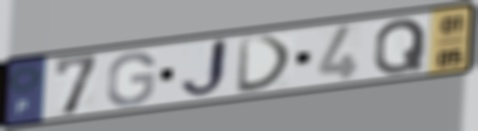4: (315, 21, 364, 84)
7: (53, 52, 99, 117)
D: (235, 33, 296, 96)
G: (104, 50, 158, 108)
J: (176, 36, 232, 101)
Q: (371, 16, 429, 77)
